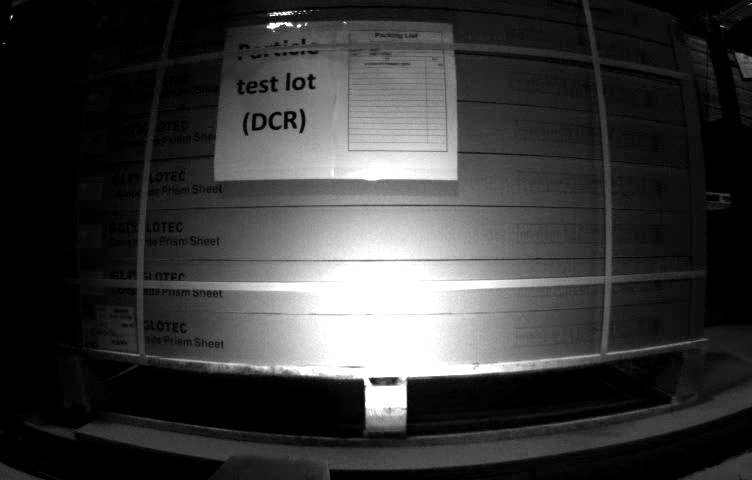True Barcode: (91, 301, 138, 353)
